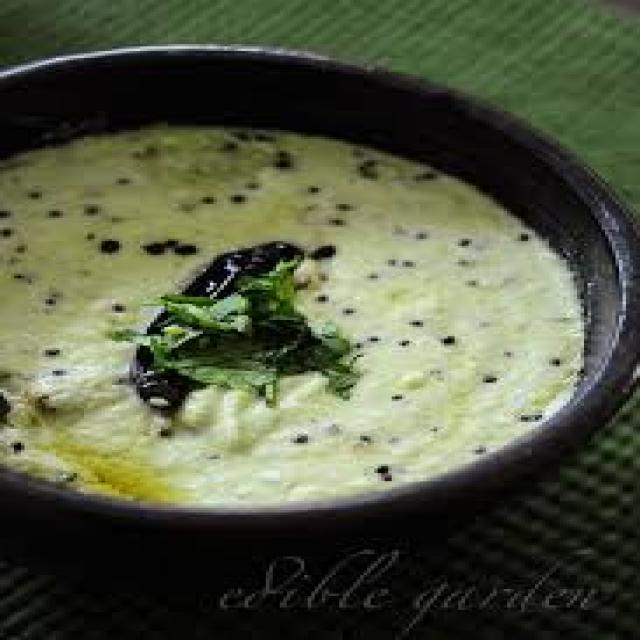WHITE CHUTNEY: (5, 125, 587, 507)
